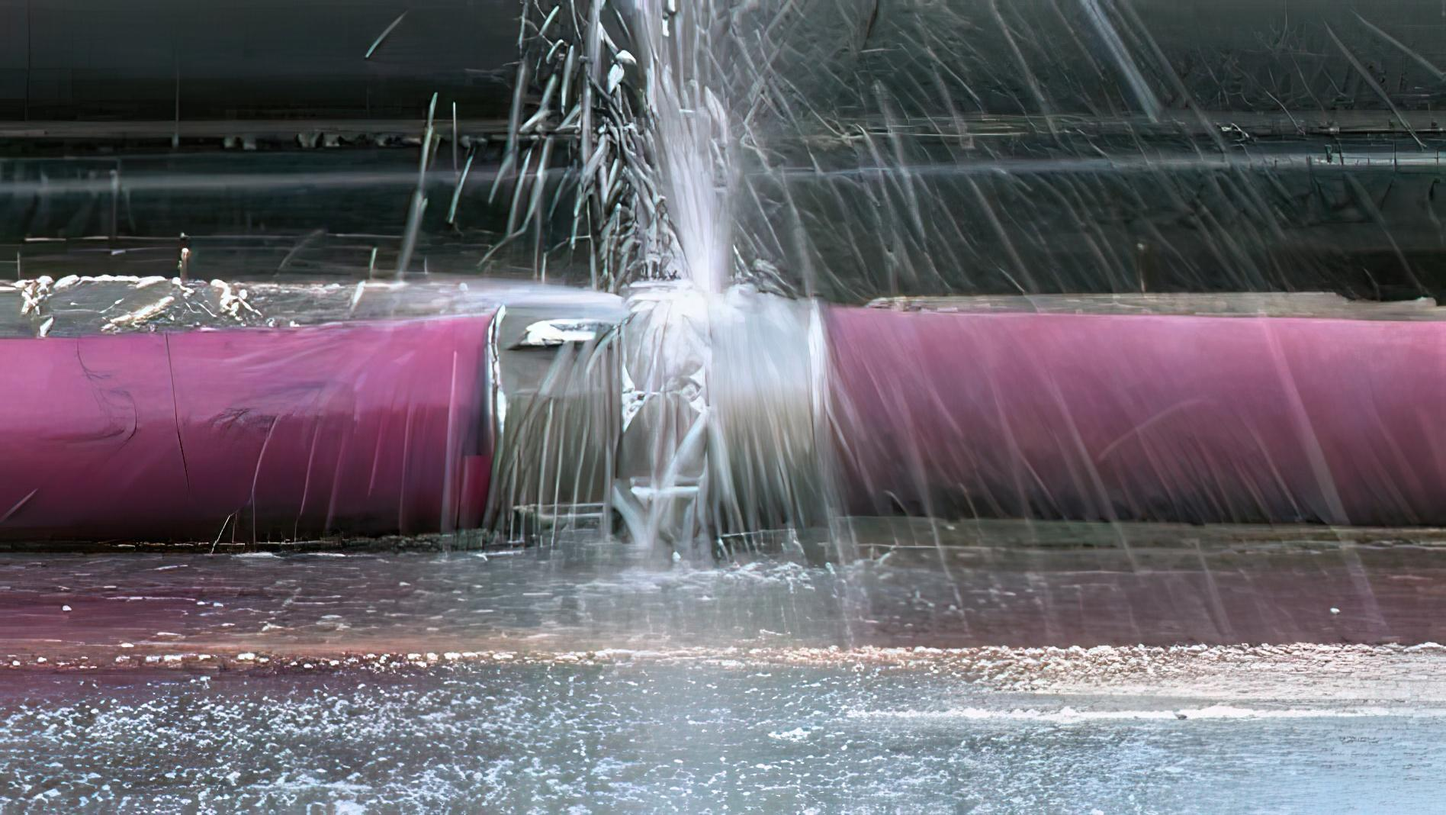pipe burst: (575, 0, 790, 327)
water accumulation: (0, 514, 1446, 815)
